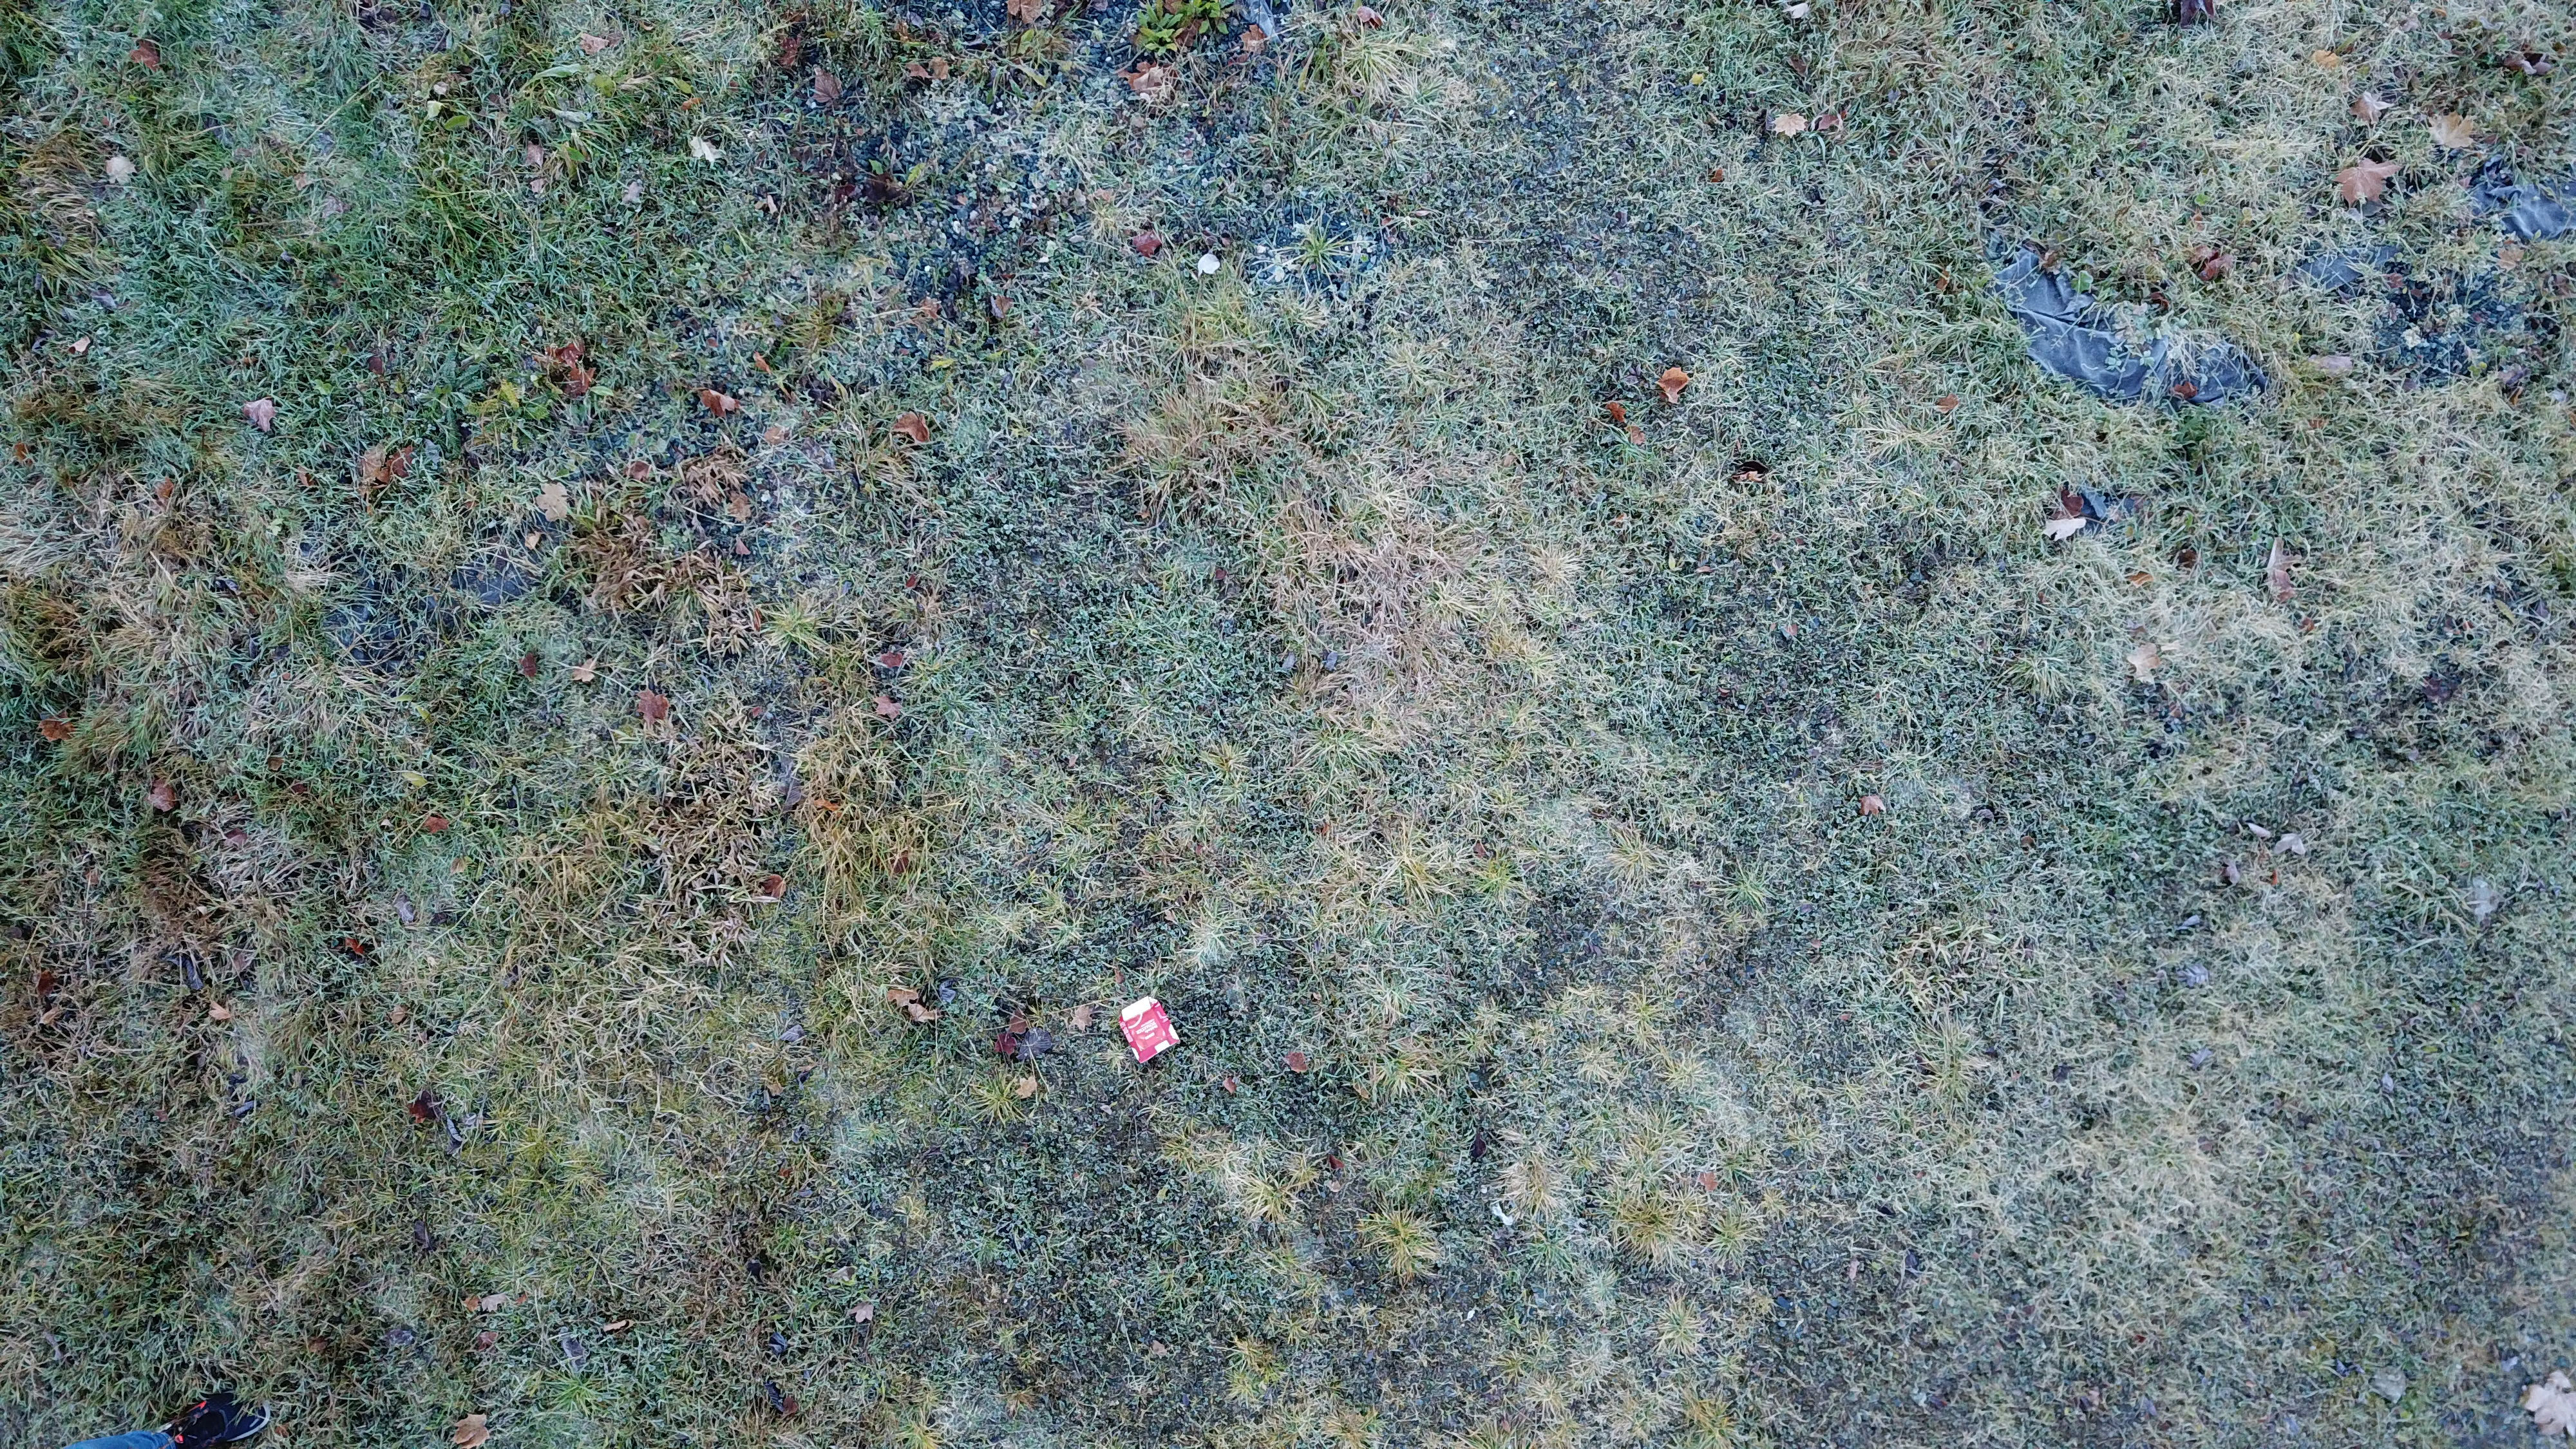Other: (1118, 1001, 1182, 1069)
